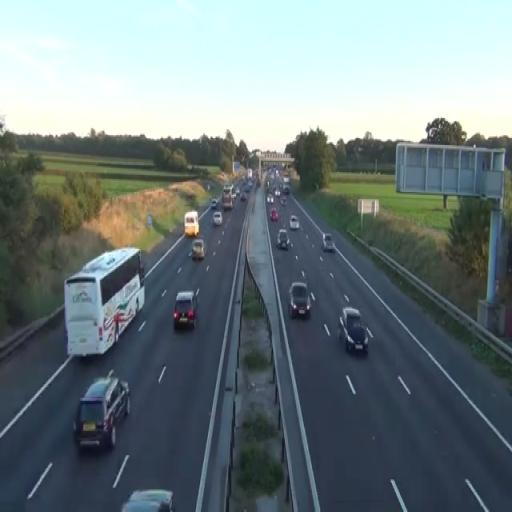Bus: (64, 245, 146, 359), (184, 210, 200, 238)
Car: (339, 306, 369, 355), (122, 488, 174, 512), (173, 289, 199, 330), (288, 281, 312, 319), (191, 239, 205, 260), (277, 228, 289, 250), (322, 233, 334, 252), (212, 211, 222, 226), (290, 215, 299, 230)
Truck: (73, 370, 131, 453), (222, 184, 236, 210)
